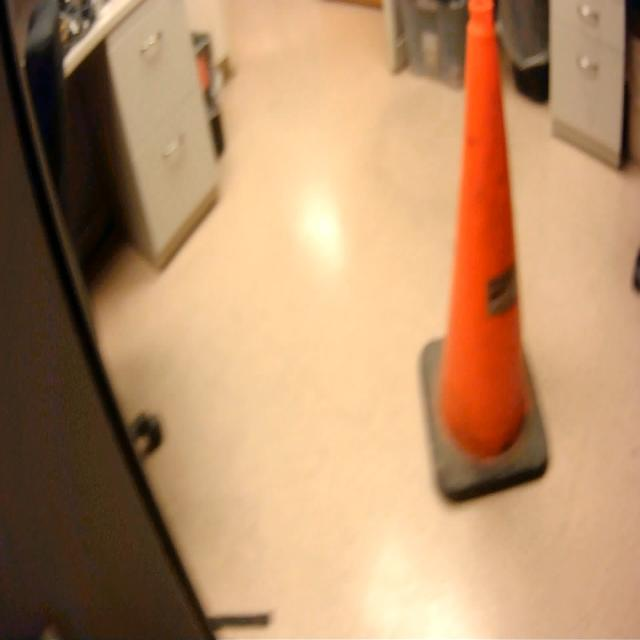traffic cone: (413, 1, 556, 515)
